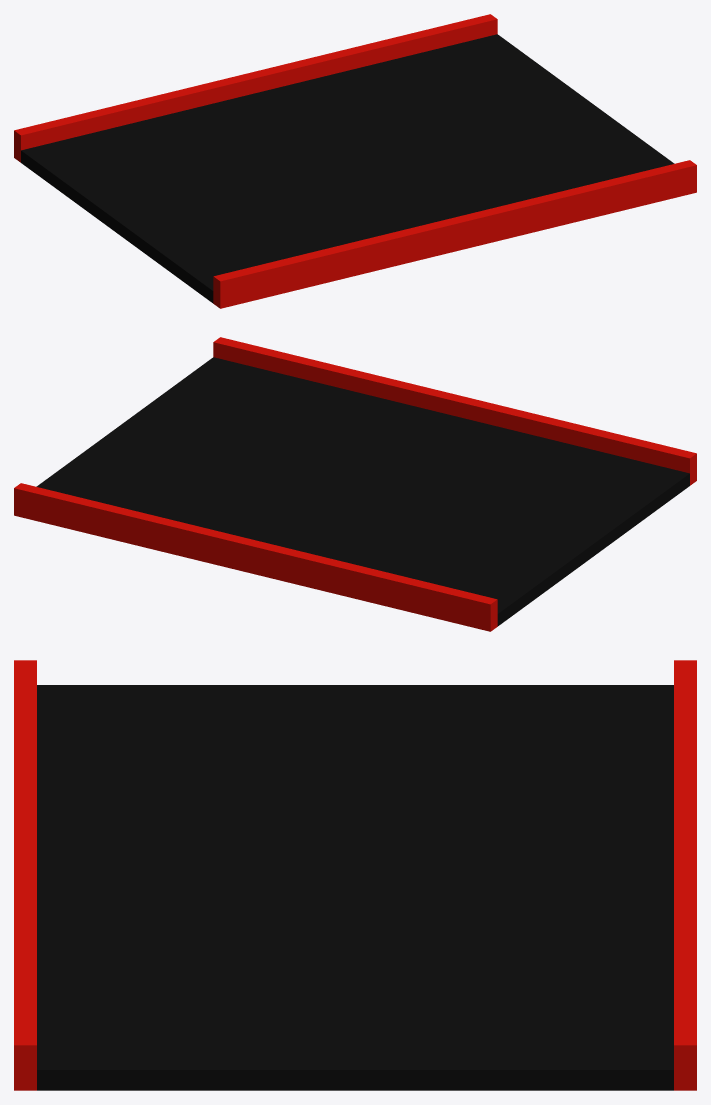
Rendered from Straight_02.fbx.
3 renders of one model, top to bottom at view 1: azimuth 30°, elevation 25°; view 2: azimuth 150°, elevation 25°; view 3: azimuth 270°, elevation 25°, orthographic. The views are drawn at different scales.
Parts seen in each view (by area): view 1: Straight_02; view 2: Straight_02; view 3: Straight_02.
Part boxes in pixels (box(x1,y1,x2,y2)): Straight_02: box(14, 14, 696, 308); Straight_02: box(14, 337, 696, 631); Straight_02: box(14, 660, 696, 1090).
Size of the model in its own units: 78.74 by 4.33 by 59.06.
